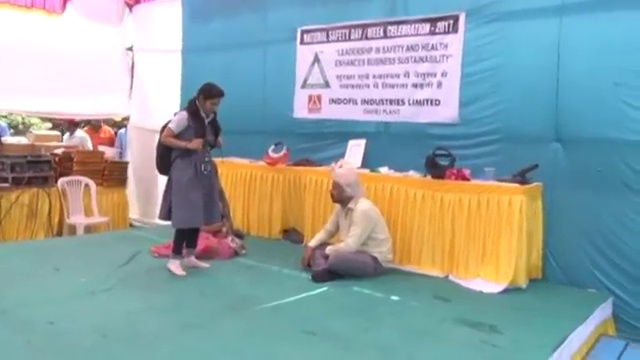helmet_off: (328, 168, 360, 205), (194, 83, 224, 117)
person: (152, 83, 224, 279), (302, 166, 394, 283), (193, 160, 245, 259), (85, 117, 115, 159), (61, 118, 92, 154), (114, 113, 131, 160), (45, 115, 65, 136)
